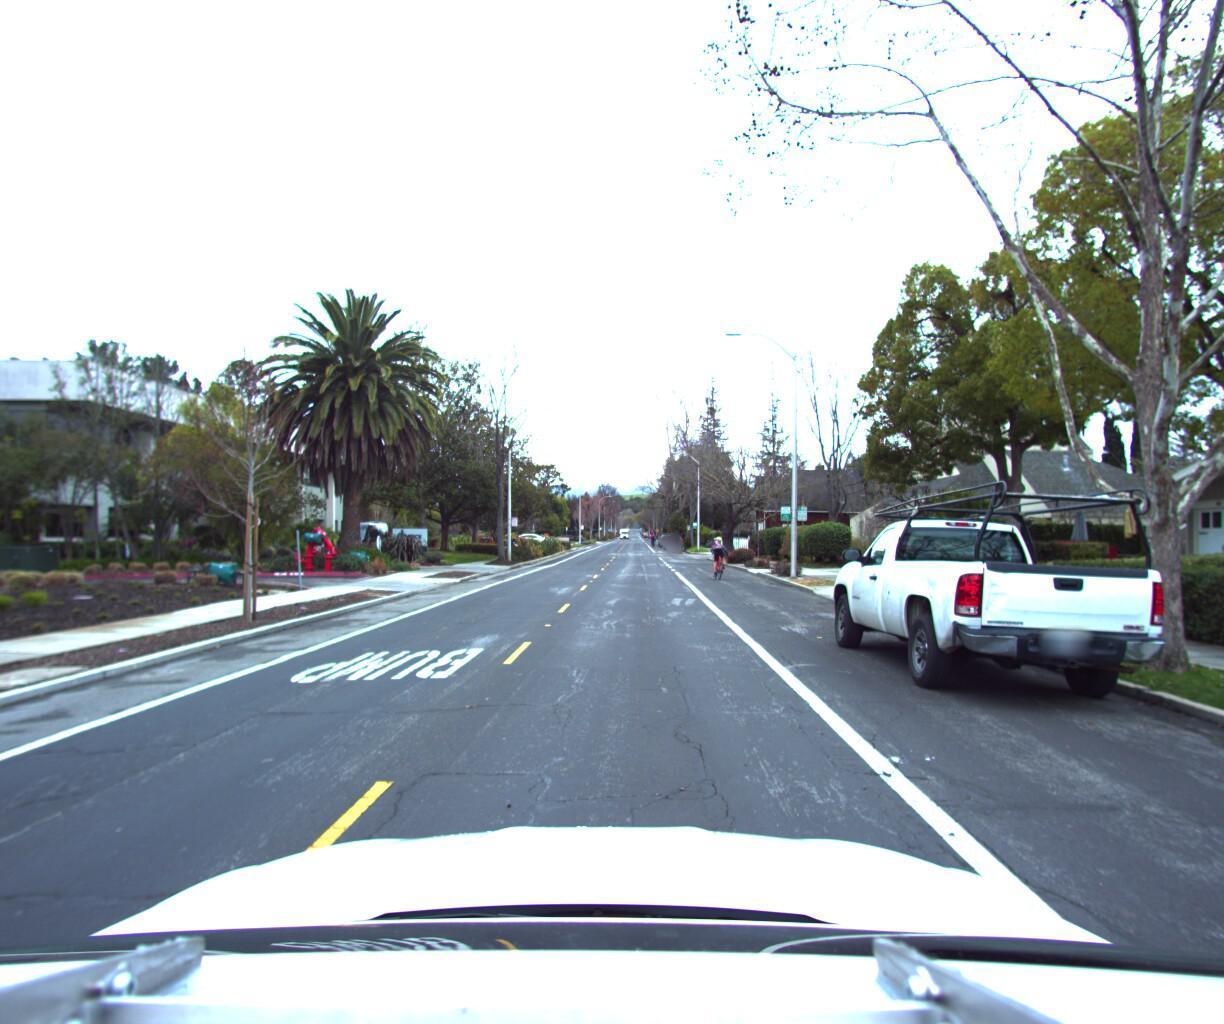bicycle: (703, 536, 733, 586)
car: (814, 486, 1204, 721), (661, 539, 684, 557)
